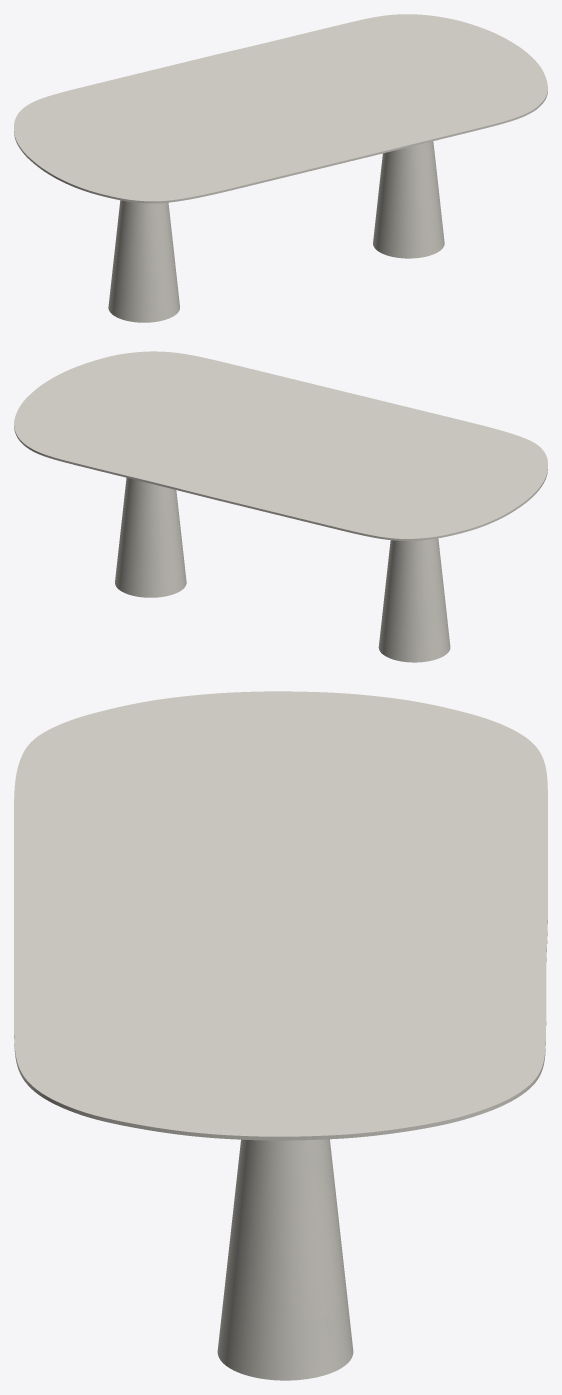
File: pale_oval_facet_pebble.glb
3 renders of one model, top to bottom at view 1: azimuth 30°, elevation 25°; view 2: azimuth 150°, elevation 25°; view 3: azimuth 270°, elevation 25°, orthographic. The views are drawn at different scales.
Parts seen in each view (by area): view 1: facet_oval, pebble; view 2: facet_oval, pebble; view 3: facet_oval, pebble.
Part boxes in pixels (bbox=[...]): facet_oval: bbox=[14, 14, 547, 203]; pebble: bbox=[108, 141, 444, 322]; facet_oval: bbox=[14, 351, 547, 540]; pebble: bbox=[115, 477, 450, 662]; facet_oval: bbox=[14, 691, 547, 1140]; pebble: bbox=[217, 1139, 353, 1380].
Bounding box in the file's own units: 7.5 × 2.5 × 3.8.
Materials: 1 (1 with a texture image).
